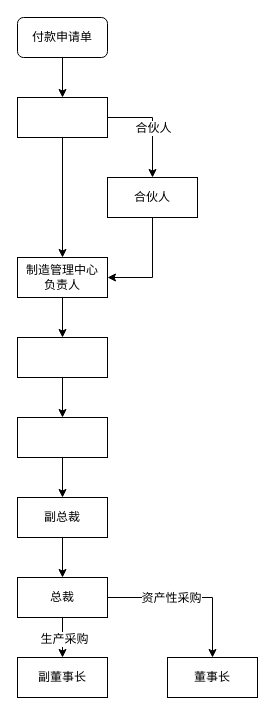
The diagram is 275 pixels wide and 715 high, and some of its shapes have lost their labels. Each missing label, with the box of its shape:
财务副总监: (16, 336, 108, 378)
财务总监: (16, 416, 108, 458)
采购总监: (16, 96, 108, 138)
